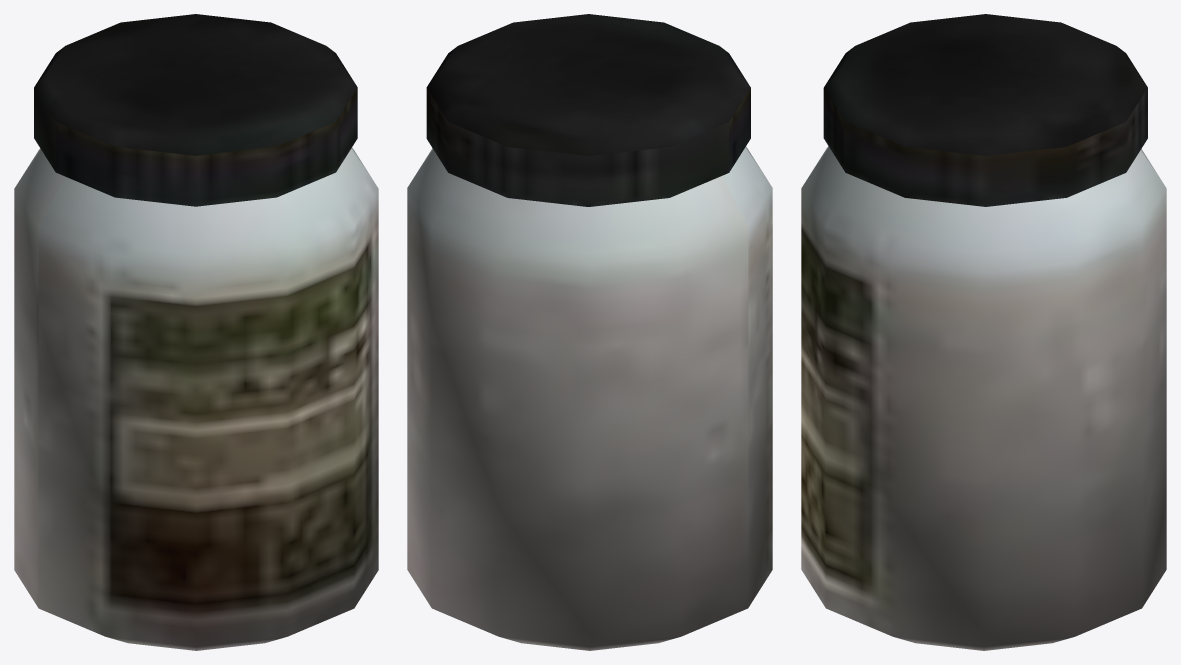
File: jar01b.glb
3 views of the same model, side by side, from view 1: azimuth 30°, elevation 25°; view 2: azimuth 150°, elevation 25°; view 3: azimuth 270°, elevation 25° (orthographic).
Parts seen in each view (by area): view 1: 0_lab_objects01; view 2: 0_lab_objects01; view 3: 0_lab_objects01.
Part boxes in pixels (x1,y1,x2,y2): 0_lab_objects01: [14, 14, 378, 650]; 0_lab_objects01: [407, 14, 772, 650]; 0_lab_objects01: [801, 14, 1166, 650].
Bounding box in the file's own units: 0.1682 × 0.262 × 0.1682.
Materials: 1 (1 with a texture image).
